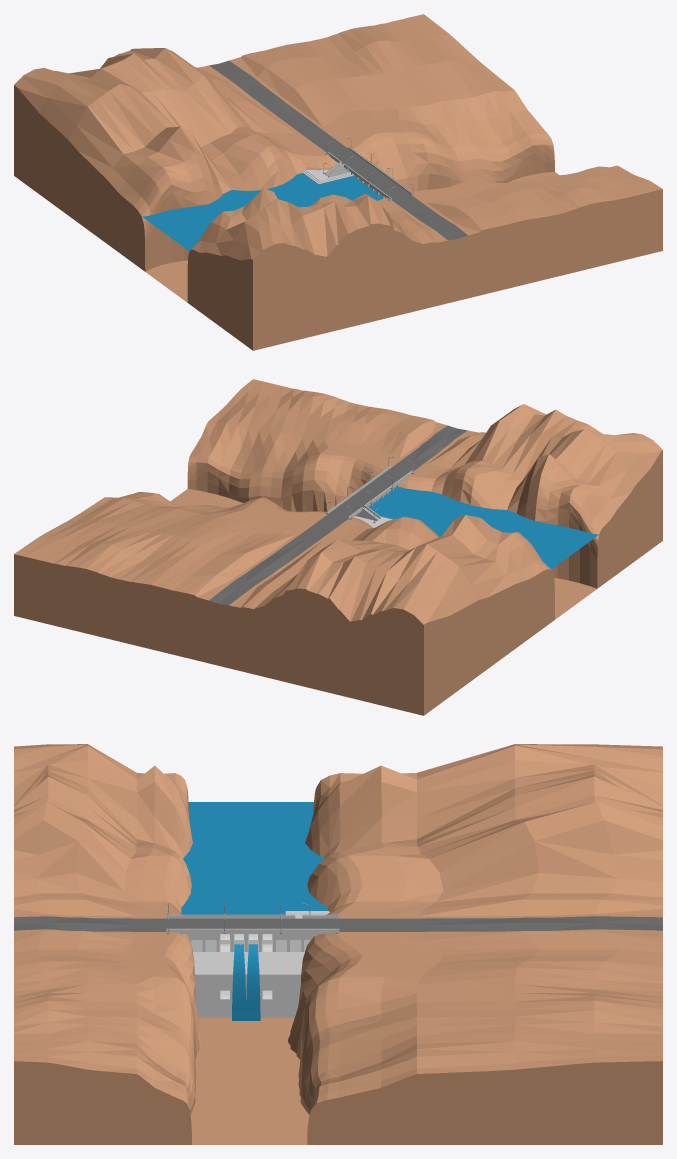
Rendered from daba-34.gltf.
The picture shows the model from 3 angles, top to bottom: view 1: azimuth 30°, elevation 25°; view 2: azimuth 150°, elevation 25°; view 3: azimuth 270°, elevation 25°; orthographic projection. The views are drawn at different scales.
Visible parts, largest first — view 1: Component_11_2, Component_9_2, Component_11_1, Component_9_1, Component_2_1, Component_4_1; view 2: Component_11_2, Component_9_2, Component_11_1, Component_9_1, Component_2_1, Component_4_1; view 3: Component_9_2, Component_11_2, Component_9_1, Component_11_1, Component_2_1, Component_4_1, Component_24_1, Component_24_2.
Boxes of the visible parts, <box> form: Component_11_2: <box>14,48,338,301</box>; Component_9_2: <box>219,14,559,191</box>; Component_11_1: <box>167,188,457,350</box>; Component_9_1: <box>398,165,662,300</box>; Component_2_1: <box>142,173,383,251</box>; Component_4_1: <box>327,146,412,200</box>; Component_11_2: <box>219,515,595,715</box>; Component_9_2: <box>14,489,337,665</box>; Component_11_1: <box>398,404,662,599</box>; Component_9_1: <box>170,379,457,511</box>; Component_2_1: <box>369,486,598,569</box>; Component_4_1: <box>327,465,412,519</box>; Component_9_2: <box>194,923,662,1144</box>; Component_11_2: <box>305,744,662,925</box>; Component_9_1: <box>14,923,248,1144</box>; Component_11_1: <box>14,744,192,925</box>; Component_2_1: <box>181,802,327,915</box>; Component_4_1: <box>166,915,339,1017</box>; Component_24_1: <box>246,944,260,1020</box>; Component_24_2: <box>232,944,246,1020</box>.
Size of the model in its own units: 1139 by 317 by 1151.
